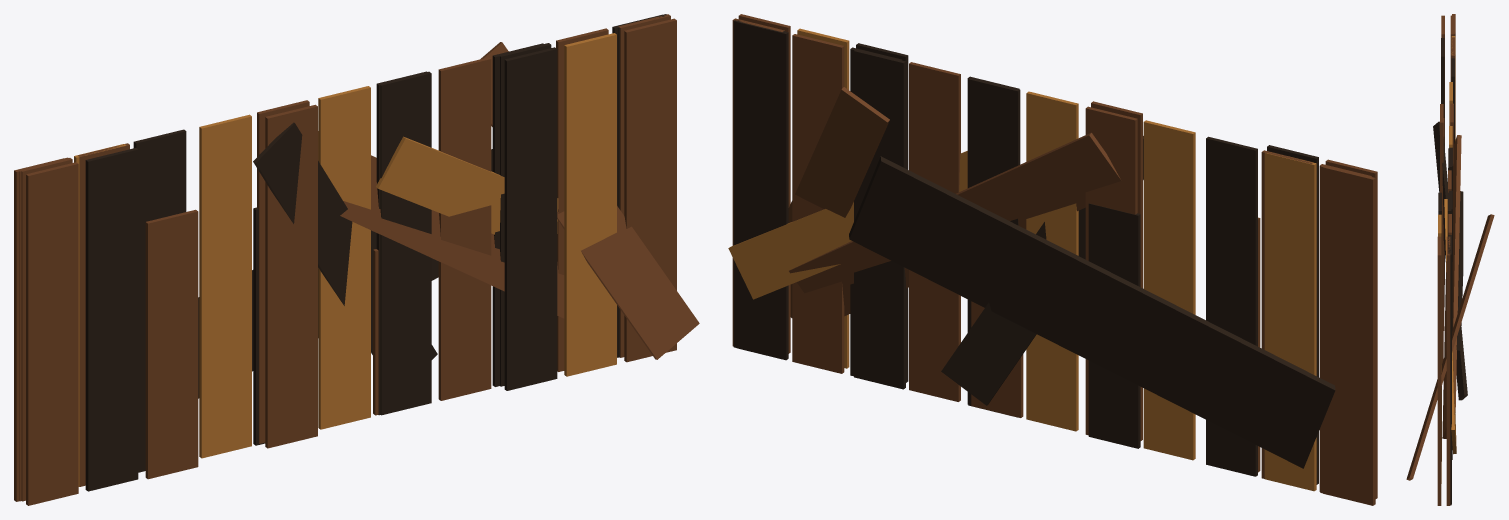
File: Fences_FINAL.FBX
3 renders of one model, left to right at view 1: azimuth 30°, elevation 25°; view 2: azimuth 150°, elevation 25°; view 3: azimuth 270°, elevation 25°, orthographic. The views are drawn at different scales.
Visible parts, largest first — view 1: StraightStair005, StraightStair003, StraightStair004, StraightStair002; view 2: StraightStair002, StraightStair005, StraightStair004, StraightStair003; view 3: StraightStair005, StraightStair003, StraightStair002, StraightStair004.
Boxes of the visible parts, x1=… form: StraightStair005: x1=26, y1=18, x2=676, y2=505; StraightStair003: x1=20, y1=14, x2=670, y2=501; StraightStair004: x1=18, y1=14, x2=668, y2=501; StraightStair002: x1=14, y1=14, x2=699, y2=501; StraightStair002: x1=736, y1=20, x2=1375, y2=505; StraightStair005: x1=738, y1=14, x2=1377, y2=498; StraightStair004: x1=728, y1=19, x2=1372, y2=493; StraightStair003: x1=732, y1=18, x2=1371, y2=491; StraightStair005: x1=1437, y1=15, x2=1463, y2=505; StraightStair003: x1=1433, y1=15, x2=1467, y2=505; StraightStair002: x1=1406, y1=14, x2=1494, y2=503; StraightStair004: x1=1444, y1=15, x2=1456, y2=505.
Size of the model in its own units: 317 by 153 by 48.58.
